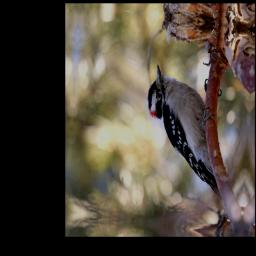Woodpecker: (142, 63, 231, 197)
